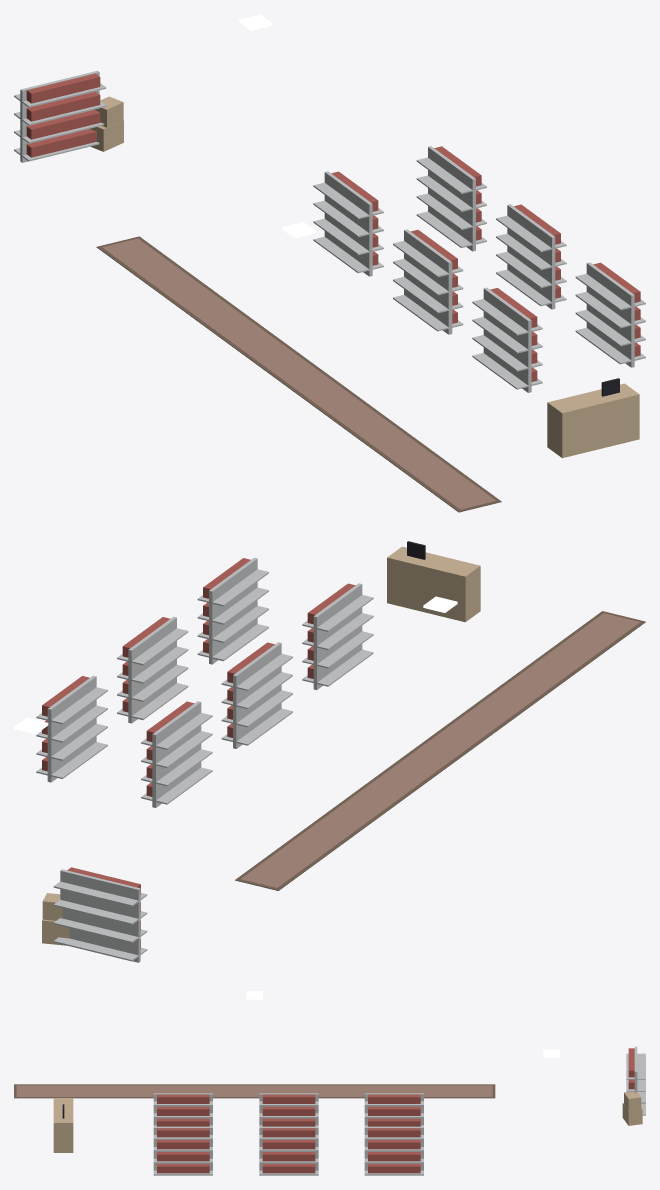
Rendered from fine-s0.glb.
3 views of the same model, one above another, from view 1: azimuth 30°, elevation 25°; view 2: azimuth 150°, elevation 25°; view 3: azimuth 270°, elevation 25° (orthographic). The views are drawn at different scales.
Parts seen in each view (by area): view 1: soft-s0, shelving.000, shop-counter.000, shelf.005, shelf.002, shelf.000, shelf.001, shelf.004, shelf.003, cardboard-box.000; view 2: soft-s0, shelving.000, shop-counter.000, shelf.000, shelf.002, shelf.004, shelf.001, shelf.005, shelf.003, cardboard-box.000; view 3: soft-s0, shelf.004, shelf.003, shelf.005, shelf.000, shelf.001, shelf.002, shop-counter.000, shelving.000, cardboard-box.000.
Boxes of the visible parts, left/top/right/bottom form: soft-s0: left=96, top=236, right=501, bottom=512; shelving.000: left=14, top=70, right=106, bottom=162; shop-counter.000: left=547, top=378, right=639, bottom=458; shelf.005: left=575, top=262, right=645, bottom=367; shelf.002: left=472, top=287, right=542, bottom=392; shelf.000: left=313, top=171, right=383, bottom=276; shelf.001: left=393, top=229, right=463, bottom=334; shelf.004: left=496, top=204, right=566, bottom=309; shelf.003: left=416, top=146, right=486, bottom=251; cardboard-box.000: left=90, top=96, right=123, bottom=151; soft-s0: left=235, top=611, right=645, bottom=890; shelving.000: left=53, top=867, right=147, bottom=962; shop-counter.000: left=387, top=541, right=480, bottom=622; shelf.000: left=141, top=701, right=212, bottom=807; shelf.002: left=302, top=583, right=373, bottom=689; shelf.004: left=117, top=616, right=188, bottom=723; shelf.001: left=221, top=642, right=292, bottom=748; shelf.005: left=197, top=557, right=268, bottom=664; shelf.003: left=36, top=675, right=107, bottom=782; cardboard-box.000: left=42, top=893, right=69, bottom=945; soft-s0: left=14, top=1084, right=495, bottom=1098; shelf.004: left=259, top=1126, right=318, bottom=1175; shelf.003: left=364, top=1126, right=423, bottom=1175; shelf.005: left=153, top=1126, right=212, bottom=1175; shelf.000: left=364, top=1093, right=423, bottom=1126; shelf.001: left=259, top=1093, right=318, bottom=1126; shelf.002: left=153, top=1093, right=212, bottom=1126; shop-counter.000: left=53, top=1098, right=73, bottom=1152; shelving.000: left=626, top=1046, right=645, bottom=1115; cardboard-box.000: left=622, top=1091, right=642, bottom=1125.
Size of the model in its own units: 6.8 by 3.24 by 19.17.
